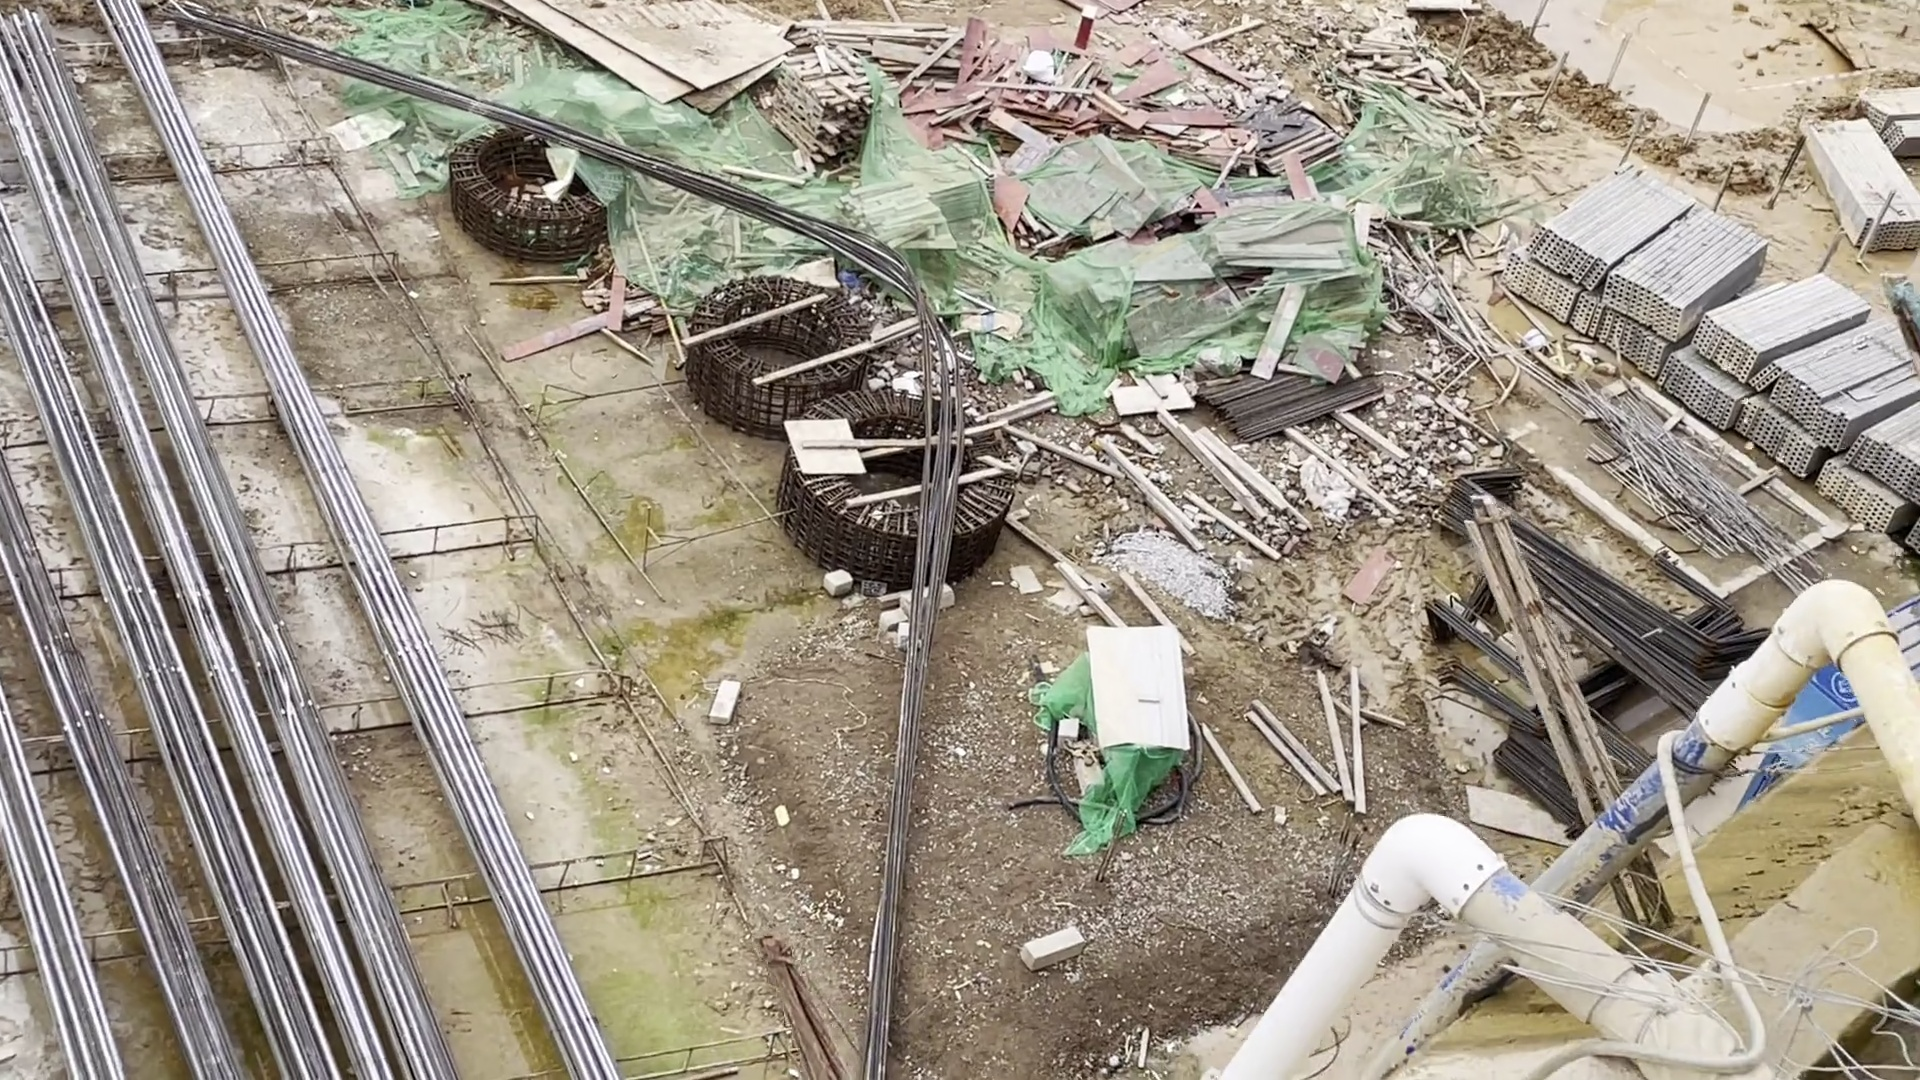board: (454, 9, 779, 124), (916, 29, 1222, 144)
rebar: (1, 1, 458, 1072)
scaffold: (1493, 73, 1920, 553)
